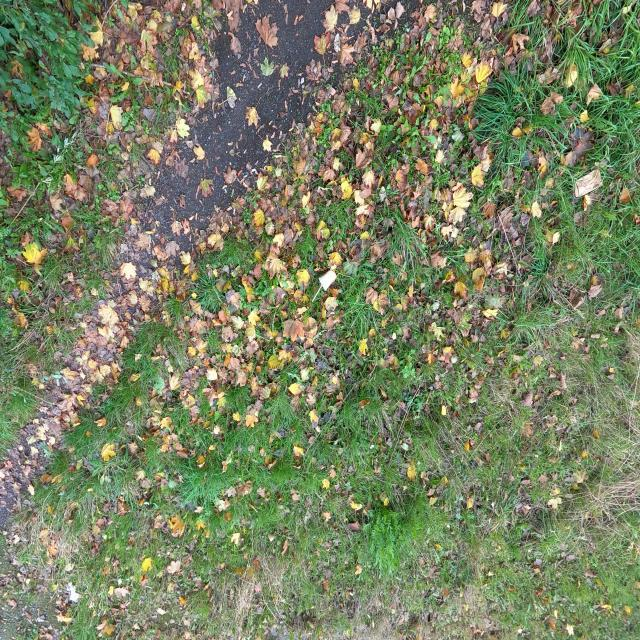rubbish: (302, 338, 329, 374), (36, 443, 67, 473)
